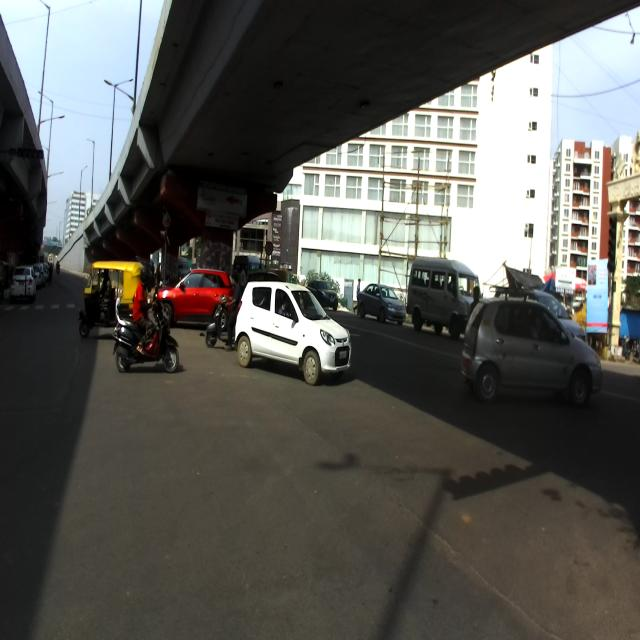car ahead at: (460, 289, 606, 418), (239, 279, 352, 388)
motorcycle ahead at: (115, 300, 183, 380)
